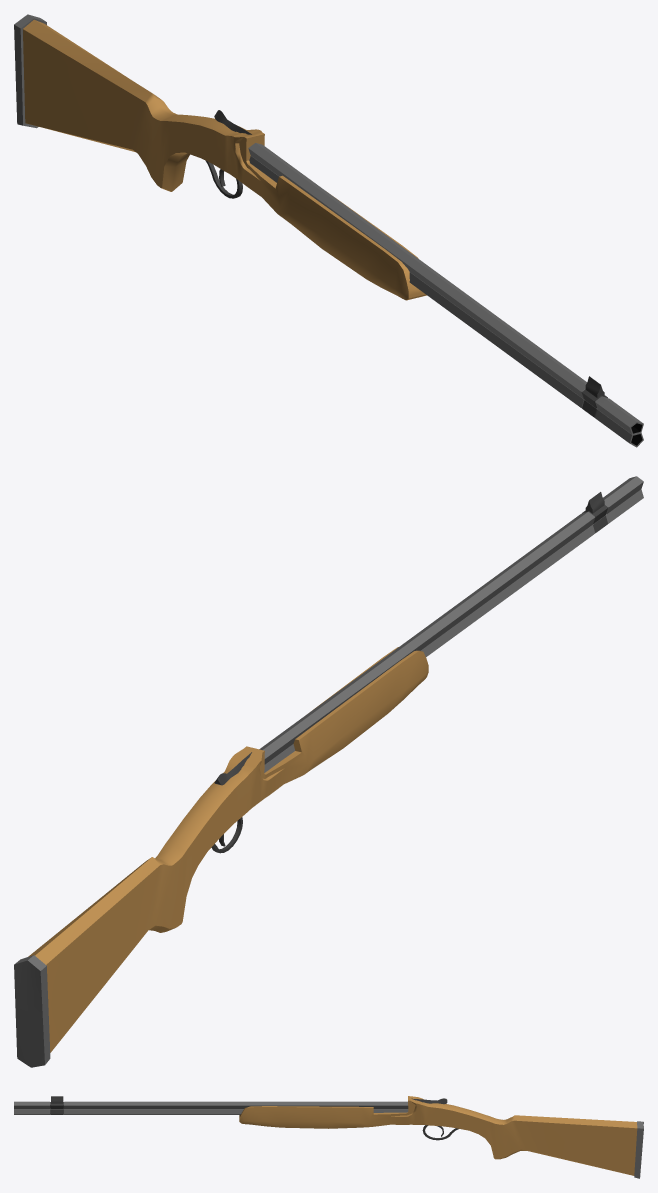
The model's file is 19-Desert-pump-shotgun.glb.
3 views of the same model, one above another, from view 1: azimuth 30°, elevation 25°; view 2: azimuth 150°, elevation 25°; view 3: azimuth 270°, elevation 25° (orthographic). The views are drawn at different scales.
Parts seen in each view (by area): view 1: Desert pump shotgun; view 2: Desert pump shotgun; view 3: Desert pump shotgun.
Boxes of the visible parts, x1=… form: Desert pump shotgun: x1=14, y1=14, x2=643, y2=447; Desert pump shotgun: x1=14, y1=476, x2=643, y2=1067; Desert pump shotgun: x1=14, y1=1096, x2=643, y2=1178.
Size of the model in its own units: 0.0272 by 0.1483 by 1.03.
Materials: 1 (1 with a texture image).
